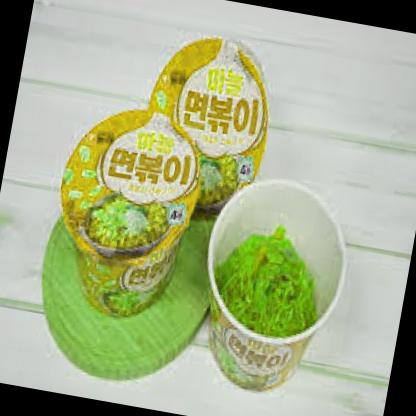Ramen: (190, 170, 364, 392), (36, 94, 206, 320)
